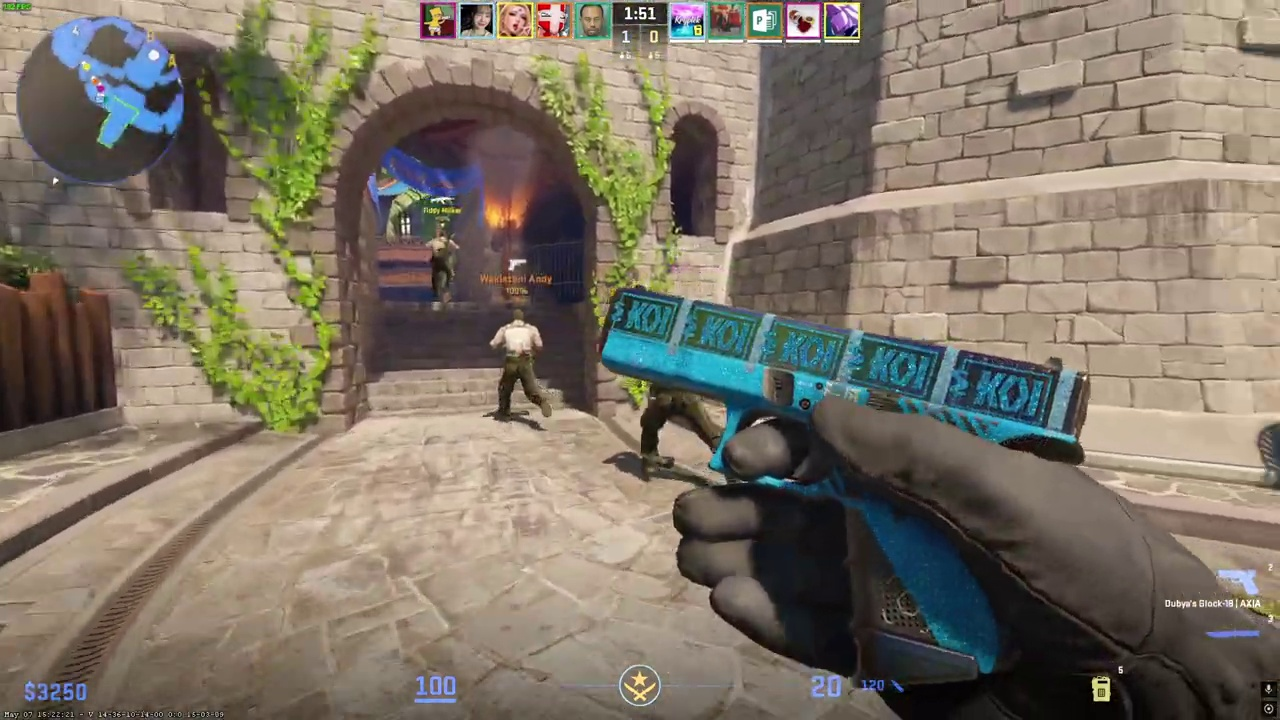Terrorist: (487, 313, 550, 426), (426, 229, 458, 300)
